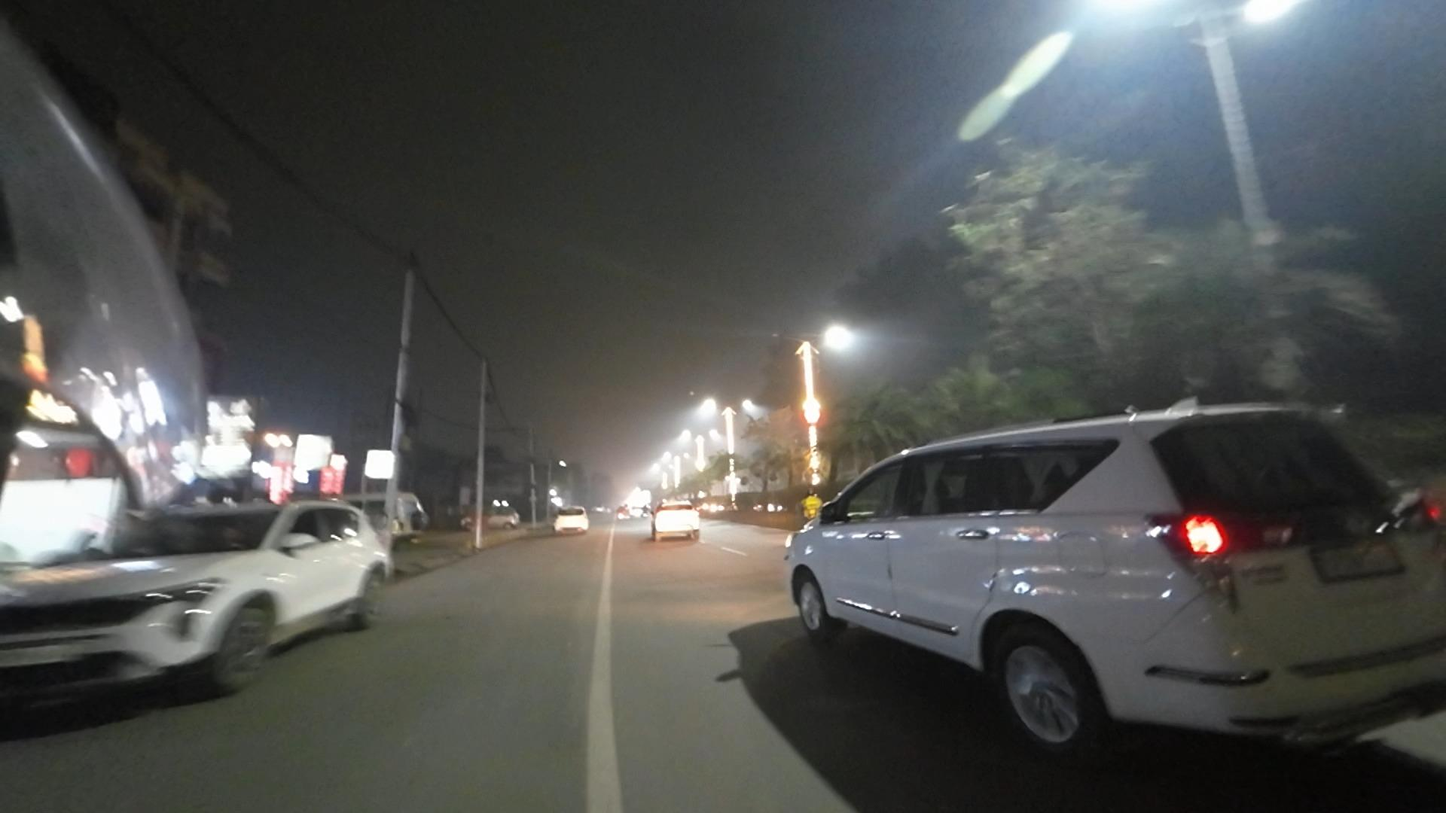streetlight: (770, 330, 799, 344)
